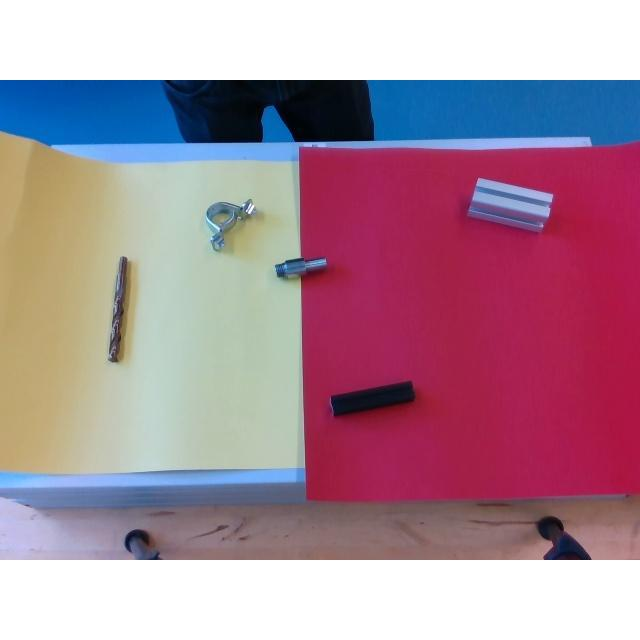Axis2: (274, 255, 326, 281)
Drill: (107, 256, 129, 360)
F20_20_B: (330, 380, 416, 414)
Housing: (206, 199, 258, 249)
S40_40_G: (468, 178, 552, 230)
